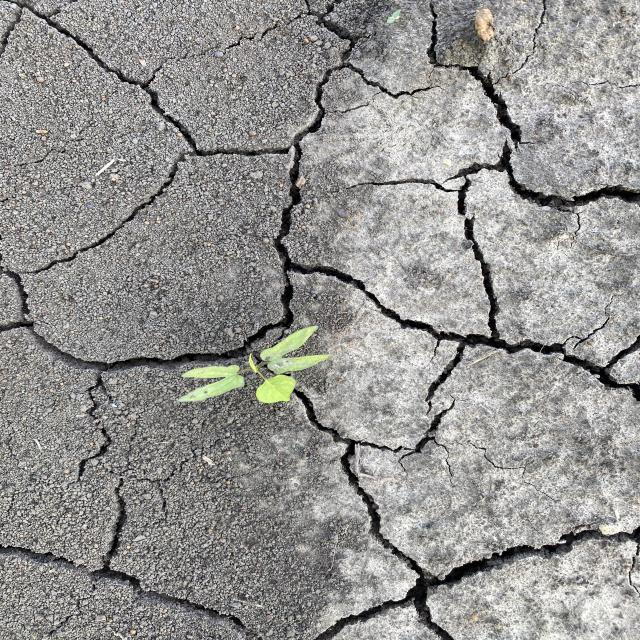MorningGlory: (174, 324, 335, 406)
